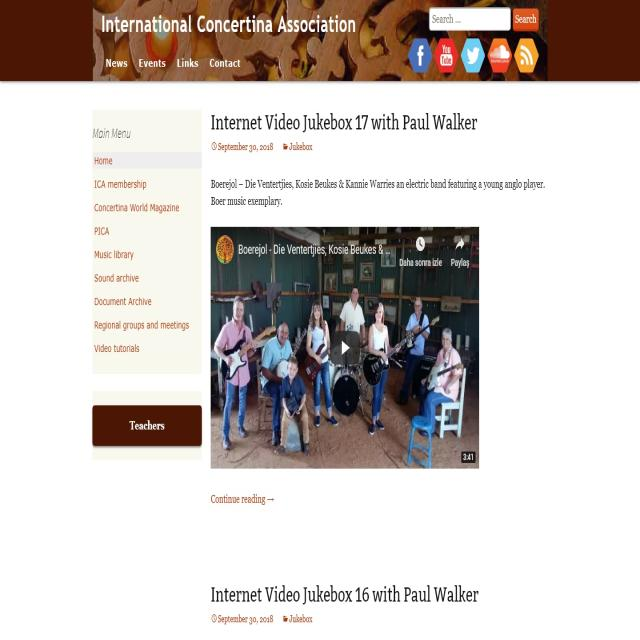button: (94, 406, 202, 448), (92, 314, 201, 338), (91, 339, 200, 362), (93, 198, 201, 220), (92, 243, 202, 264), (91, 172, 201, 192), (92, 267, 202, 287), (92, 292, 201, 312), (92, 223, 200, 240), (92, 153, 198, 170), (512, 37, 540, 76), (329, 328, 358, 364), (460, 38, 486, 77), (488, 37, 512, 76), (407, 39, 433, 74), (134, 51, 170, 76), (435, 38, 458, 77), (205, 52, 242, 75), (101, 51, 130, 76), (174, 52, 202, 77), (513, 7, 539, 33)
field: (430, 7, 510, 33)
heading: (210, 580, 484, 608), (97, 10, 358, 38), (210, 110, 480, 137), (93, 123, 133, 143)
image: (212, 226, 480, 468), (1, 0, 639, 85)
label: (431, 7, 458, 29)
link: (209, 491, 274, 509)
text: (209, 175, 547, 211), (209, 138, 316, 156), (209, 612, 314, 626)
